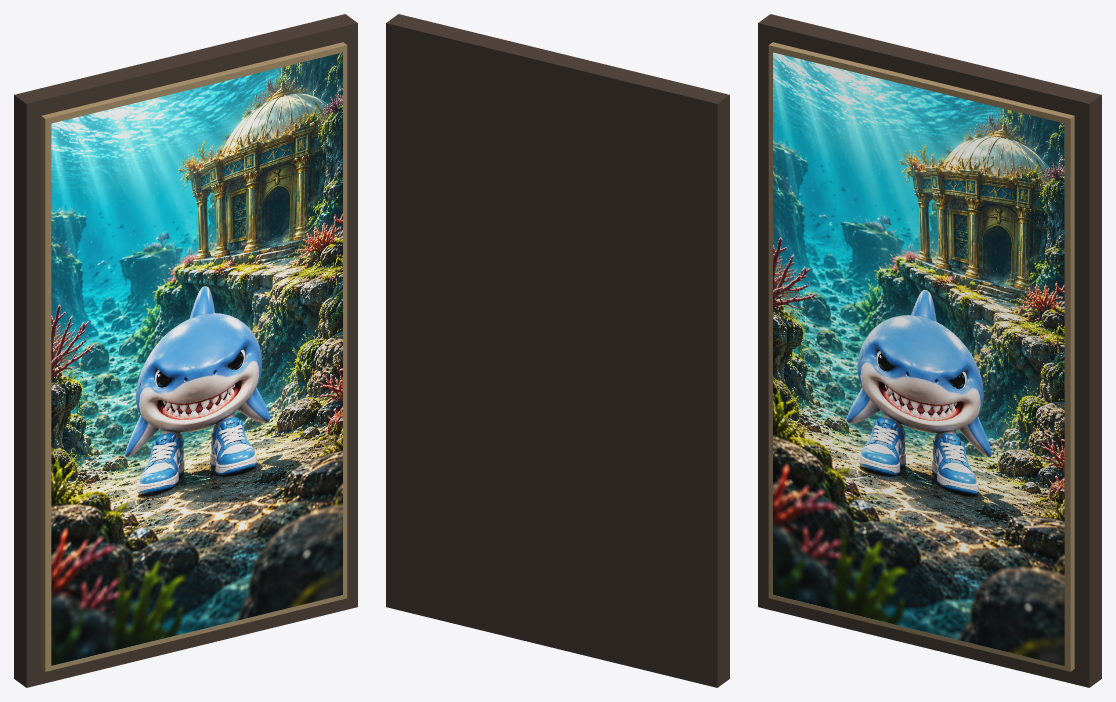
Rendered from painting_tralalero_tralala.glb.
The picture shows the model from 3 angles, left to right: view 1: azimuth 30°, elevation 25°; view 2: azimuth 150°, elevation 25°; view 3: azimuth 330°, elevation 25°; orthographic projection.
Parts seen in each view (by area): view 1: Art, Solid joinery, Solid joinery.001; view 2: Solid joinery; view 3: Art, Solid joinery, Solid joinery.001.
Part boxes in pixels (box(x1,y1,x2,y2)): Art: box(51, 52, 342, 665); Solid joinery: box(14, 14, 357, 687); Solid joinery.001: box(41, 42, 347, 671); Solid joinery: box(386, 14, 729, 687); Art: box(773, 52, 1064, 665); Solid joinery: box(758, 14, 1101, 687); Solid joinery.001: box(768, 42, 1074, 671).
Bounding box in the file's own units: 0.4602 × 0.775 × 0.042.
Materials: 3 (1 with a texture image).
